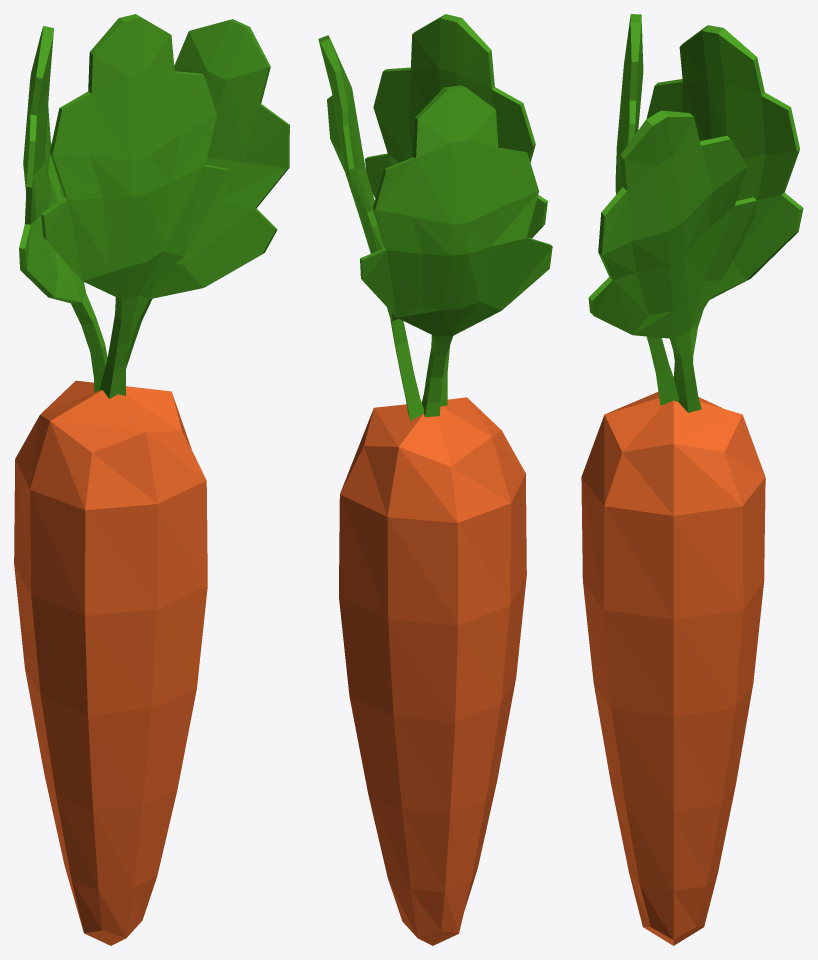
The model's file is carrot_2.glb.
3 views of the same model, side by side, from view 1: azimuth 30°, elevation 25°; view 2: azimuth 150°, elevation 25°; view 3: azimuth 270°, elevation 25° (orthographic). The views are drawn at different scales.
Visible parts, largest first — view 1: Object_5, Object_4; view 2: Object_5, Object_4; view 3: Object_5, Object_4.
Part boxes in pixels (x1,y1,x2,y2): Object_5: [14, 380, 207, 945]; Object_4: [19, 14, 289, 398]; Object_5: [339, 397, 526, 945]; Object_4: [318, 14, 552, 420]; Object_5: [581, 392, 765, 945]; Object_4: [588, 14, 803, 412].
Bounding box in the file's own units: 1.21 × 4.33 × 0.9404.
